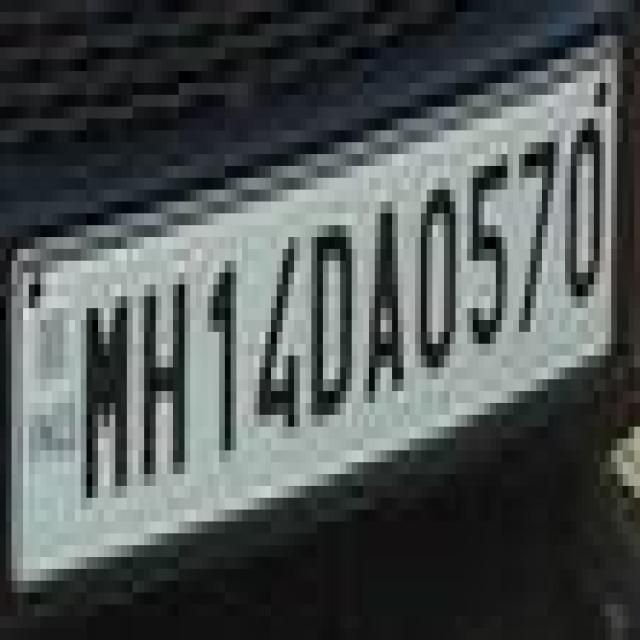license_plate: (0, 154, 623, 522)
